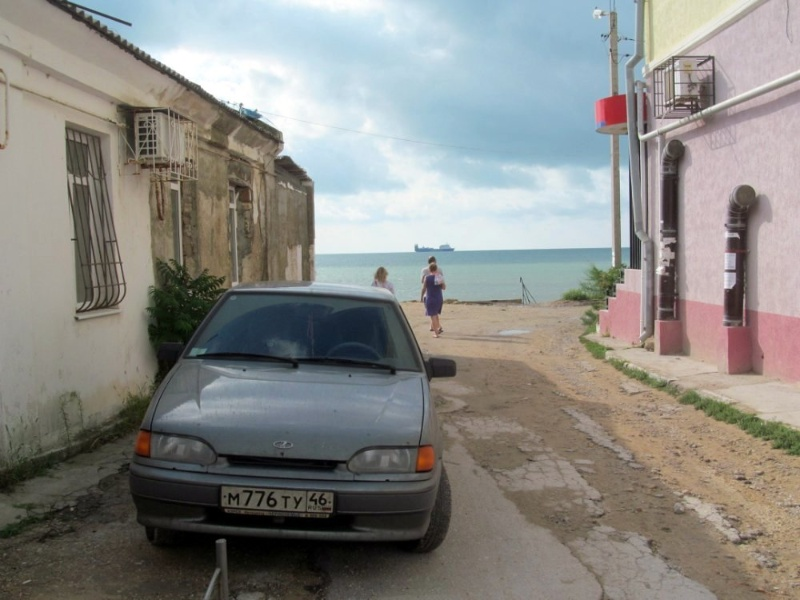car: (131, 280, 457, 557)
person: (421, 263, 446, 337), (371, 266, 393, 288)
plate: (221, 485, 333, 511)
